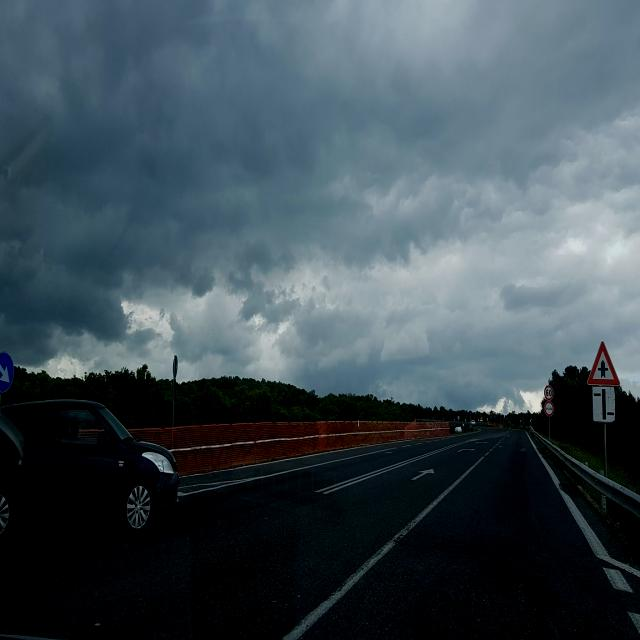car: (0, 398, 179, 542), (454, 422, 463, 433)
